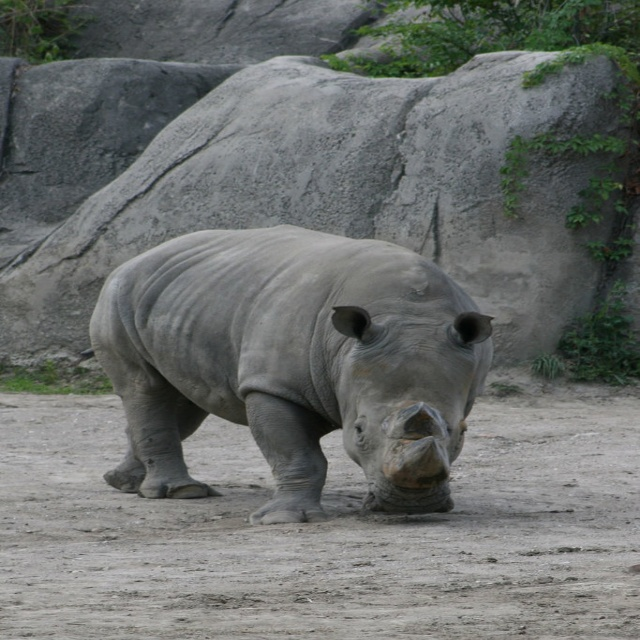Rhinoceros: (78, 223, 507, 525)
